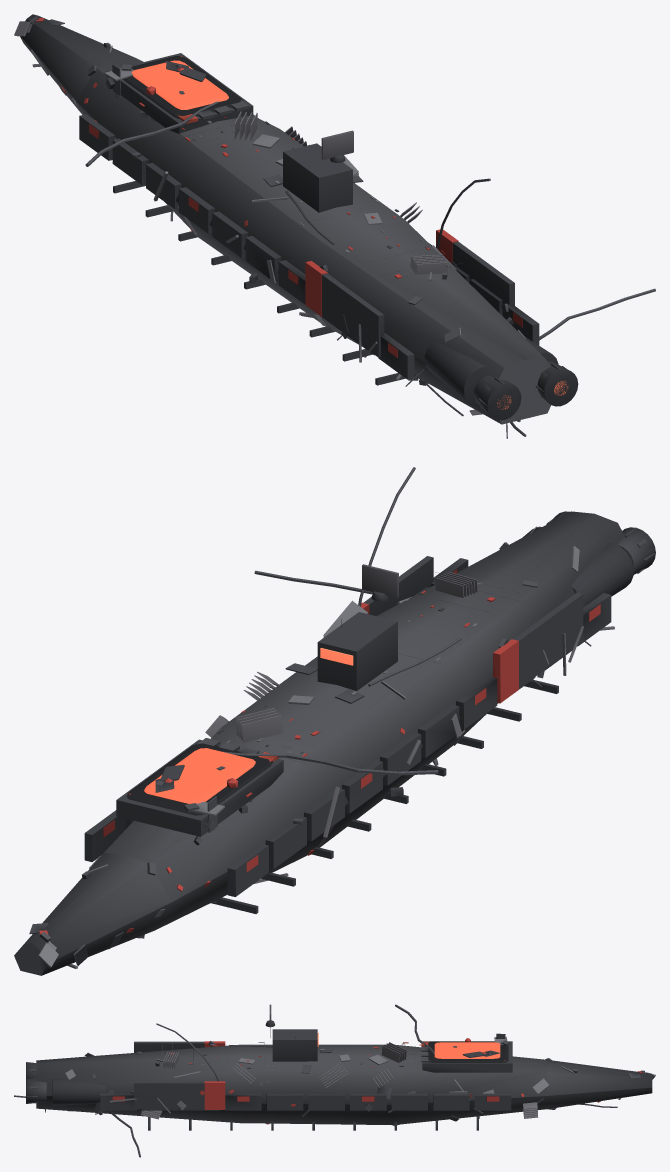
The model's file is capital_warden.glb.
3 views of the same model, one above another, from view 1: azimuth 30°, elevation 25°; view 2: azimuth 150°, elevation 25°; view 3: azimuth 270°, elevation 25° (orthographic). The views are drawn at different scales.
Visible parts, largest first — view 1: WardenHull, SUB_launcher, SUB_engine_1, SUB_engine_0, SUB_radar; view 2: WardenHull, SUB_launcher, SUB_engine_1, SUB_radar; view 3: WardenHull, SUB_launcher, SUB_engine_0.
Boxes of the visible parts, x1=… form: WardenHull: x1=14, y1=14, x2=655, y2=438; SUB_launcher: x1=123, y1=56, x2=243, y2=119; SUB_engine_1: x1=424, y1=342, x2=521, y2=420; SUB_engine_0: x1=525, y1=337, x2=578, y2=406; SUB_radar: x1=321, y1=130, x2=353, y2=162; WardenHull: x1=14, y1=467, x2=624, y2=975; SUB_launcher: x1=127, y1=743, x2=272, y2=815; SUB_engine_1: x1=571, y1=527, x2=655, y2=605; SUB_radar: x1=362, y1=564, x2=398, y2=601; WardenHull: x1=14, y1=1004, x2=655, y2=1157; SUB_launcher: x1=426, y1=1041, x2=508, y2=1062; SUB_engine_0: x1=26, y1=1078, x2=106, y2=1105.
Size of the model in its own units: 64.18 by 30.84 by 156.
